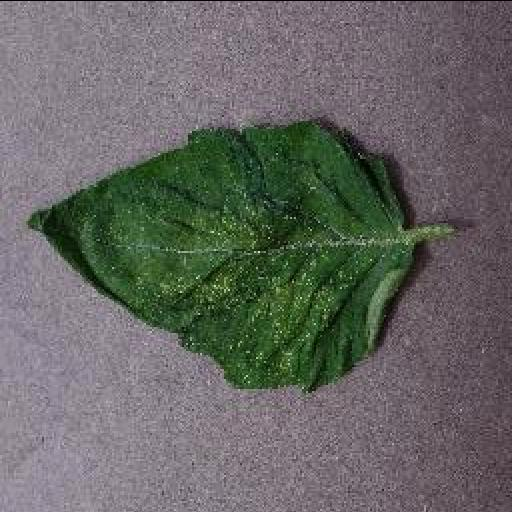disease_tomato: (25, 114, 419, 390)
